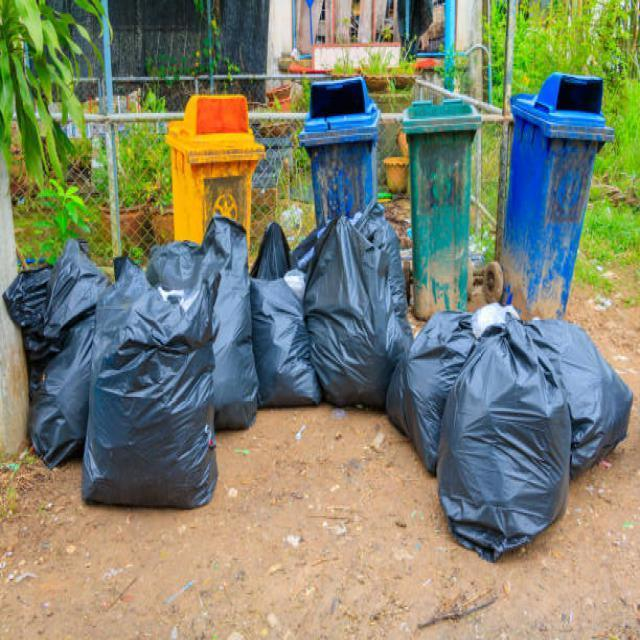Trashbag: (90, 277, 208, 514), (442, 362, 572, 559), (308, 217, 398, 407), (196, 223, 258, 438), (388, 317, 457, 468), (33, 322, 103, 461), (252, 272, 318, 419), (46, 242, 106, 334), (6, 265, 55, 334), (147, 238, 205, 294)
